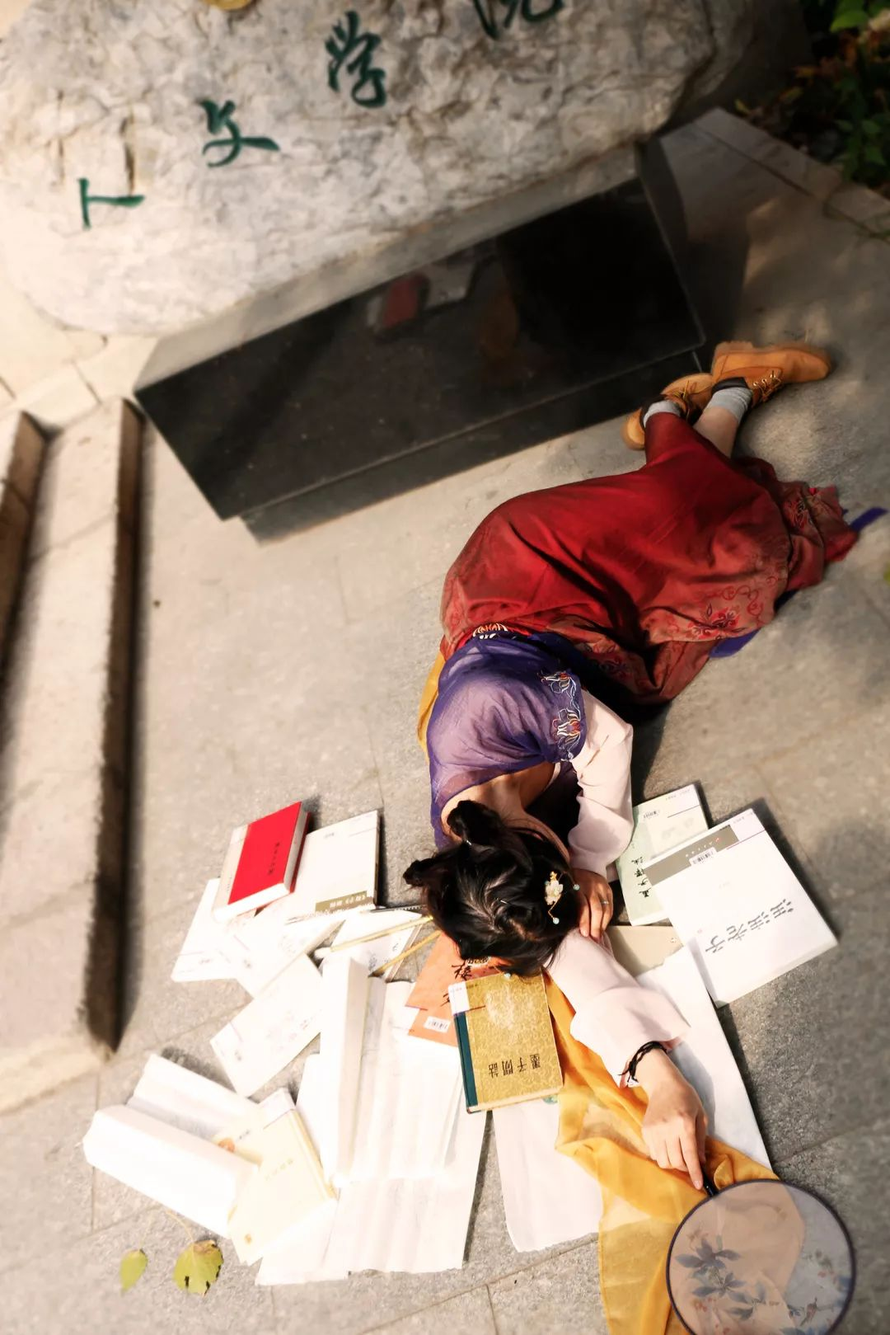down: (372, 308, 886, 1244)
